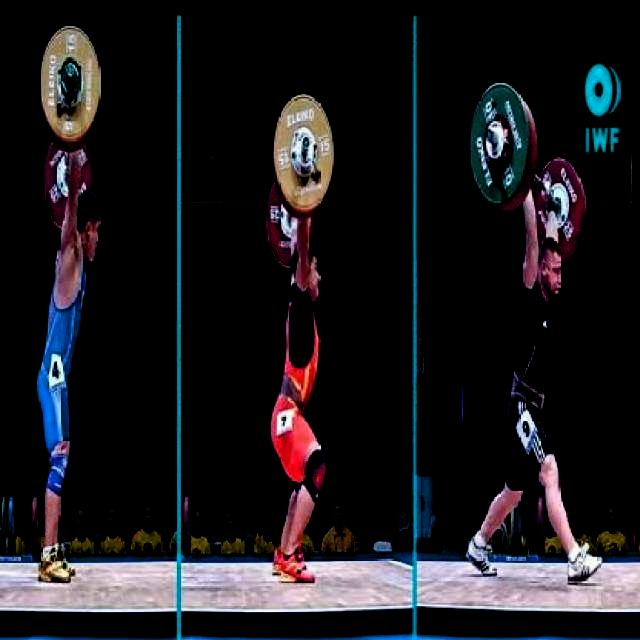barbell: (465, 70, 540, 217), (30, 18, 108, 158), (267, 88, 342, 227)
